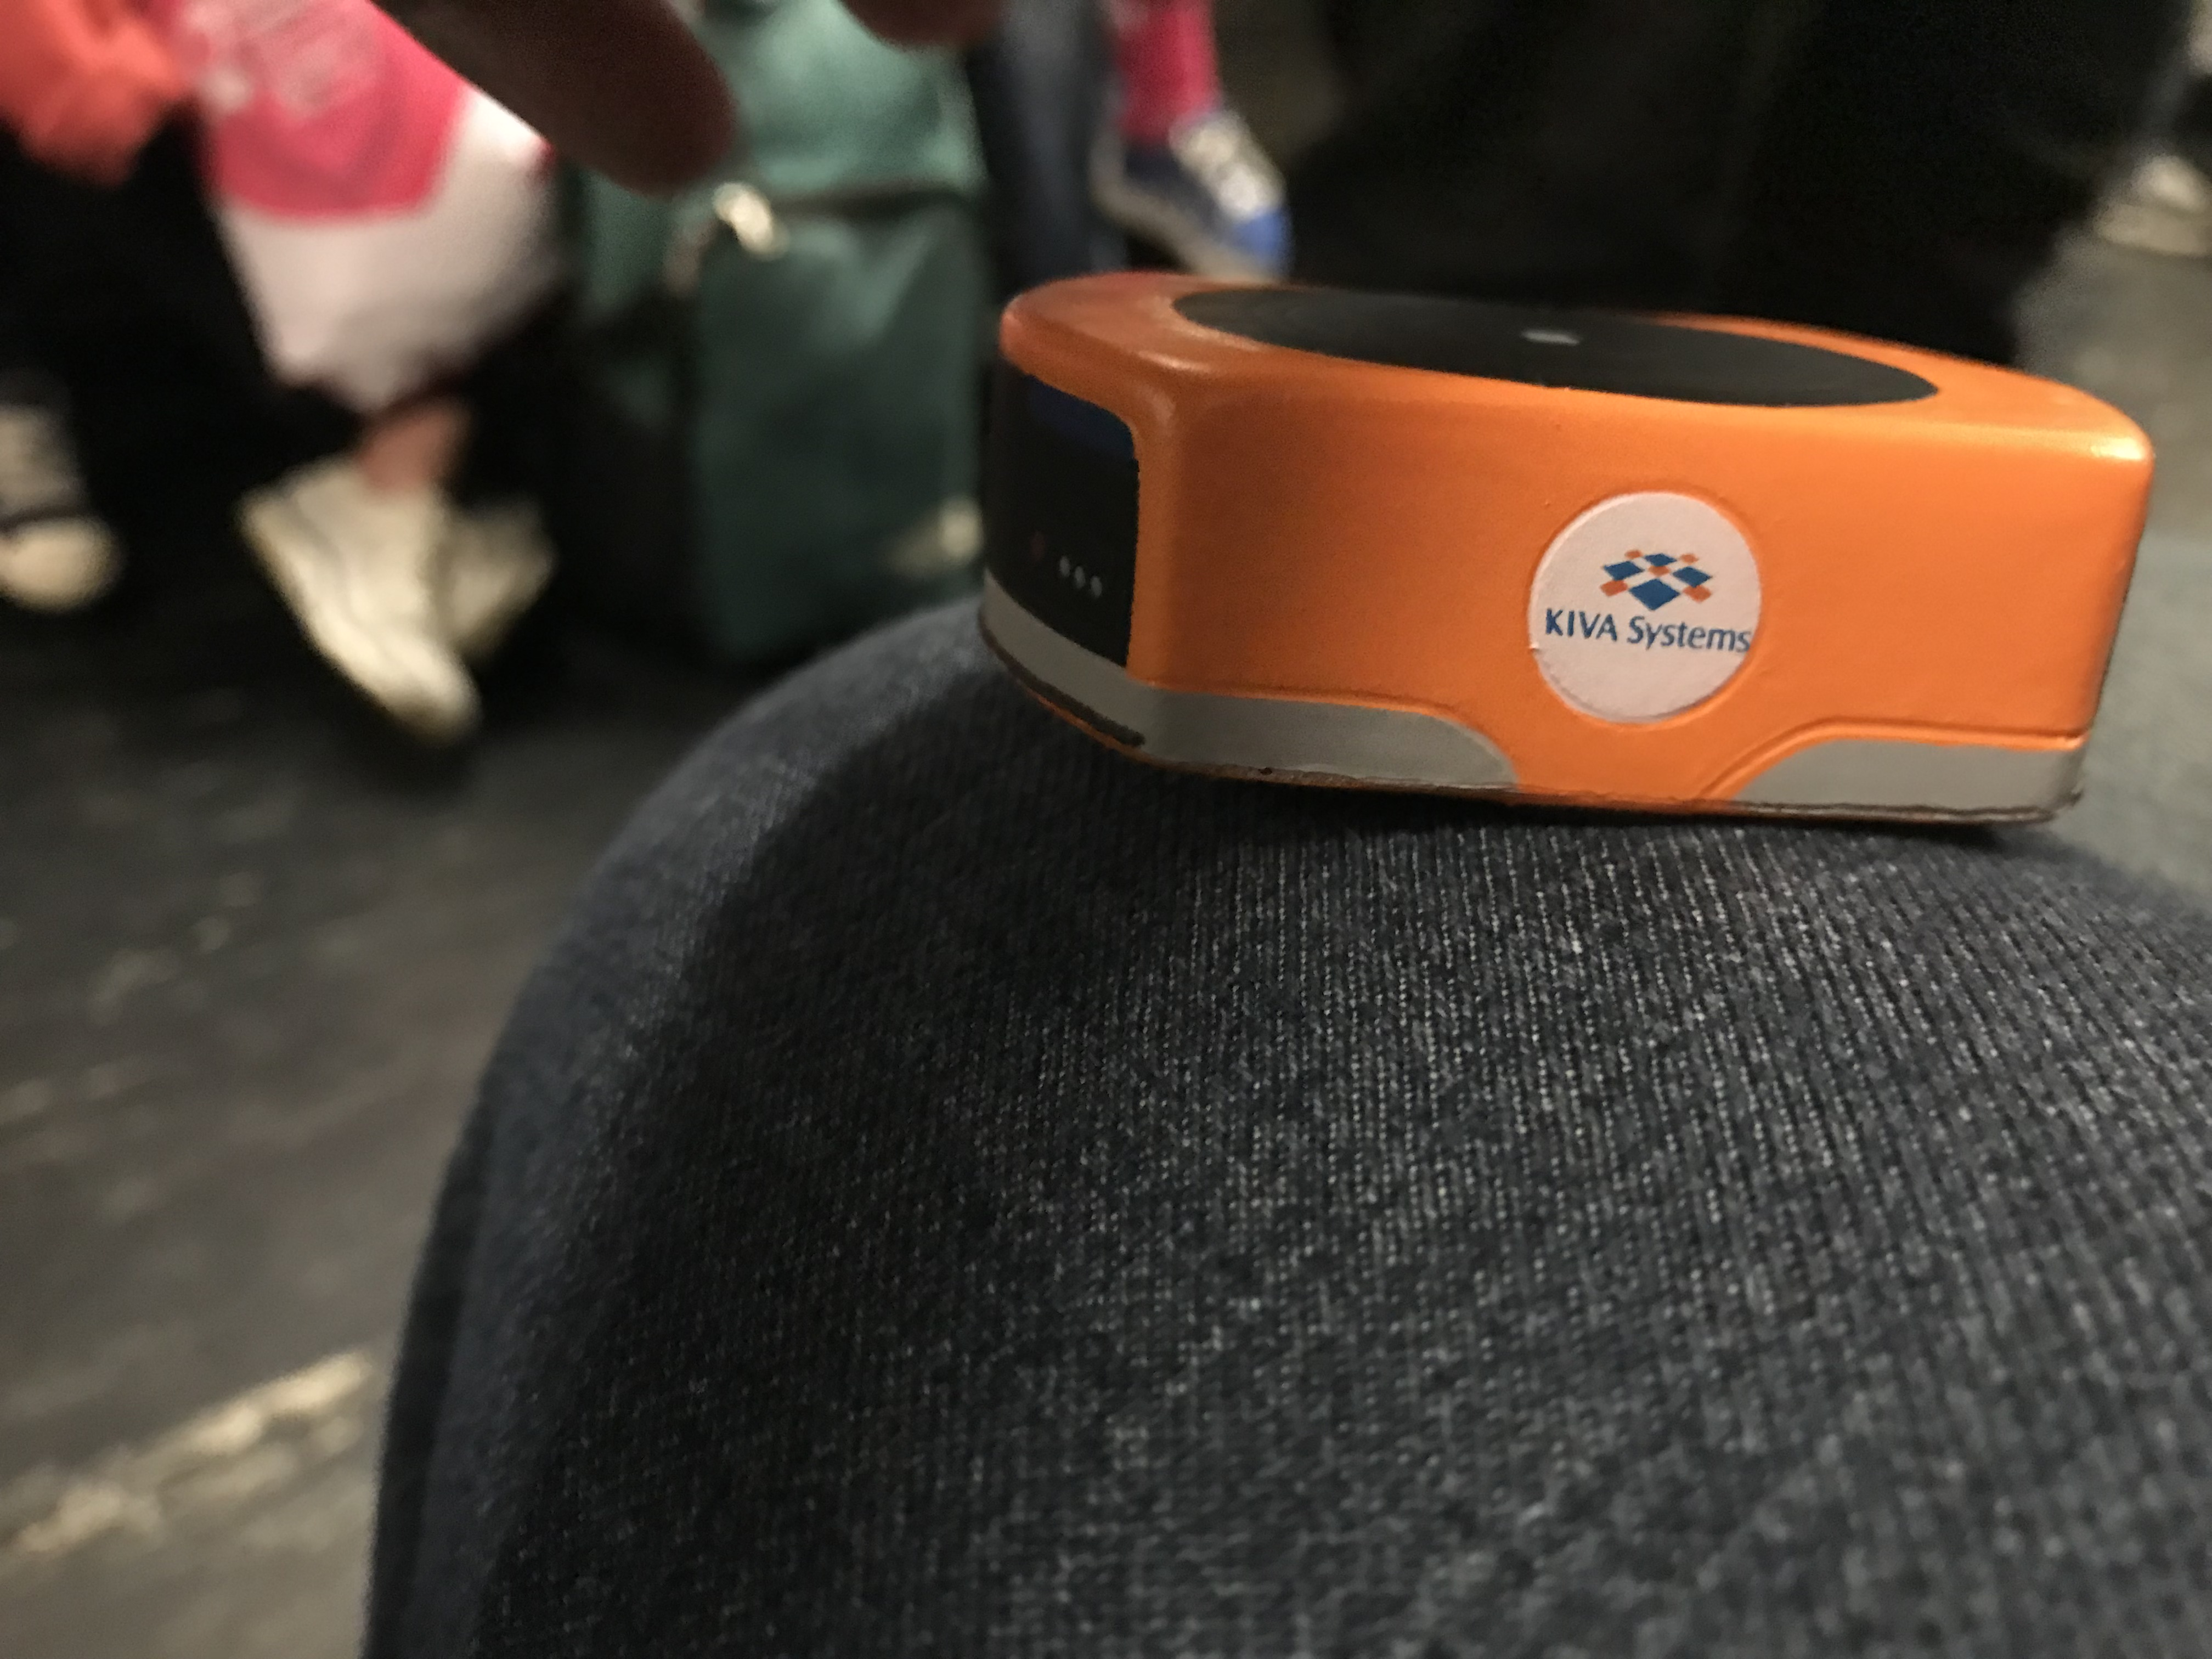amazon_bot: (965, 246, 2181, 934)
